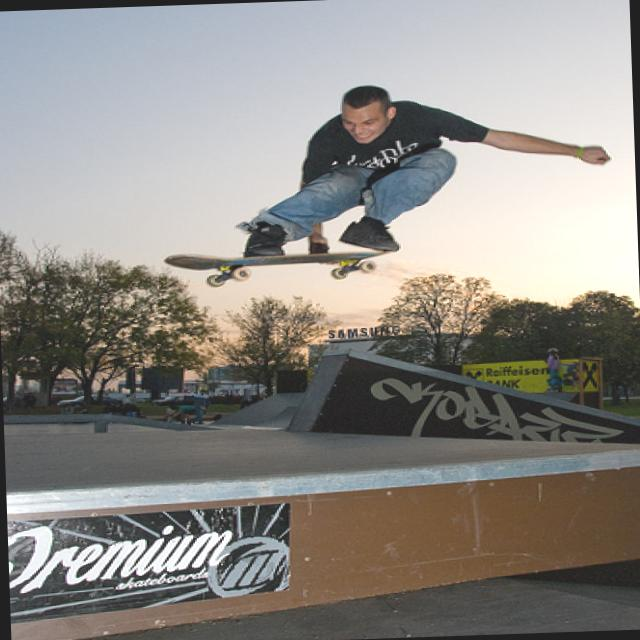Vehicle: (56, 392, 121, 412), (148, 392, 192, 406)
